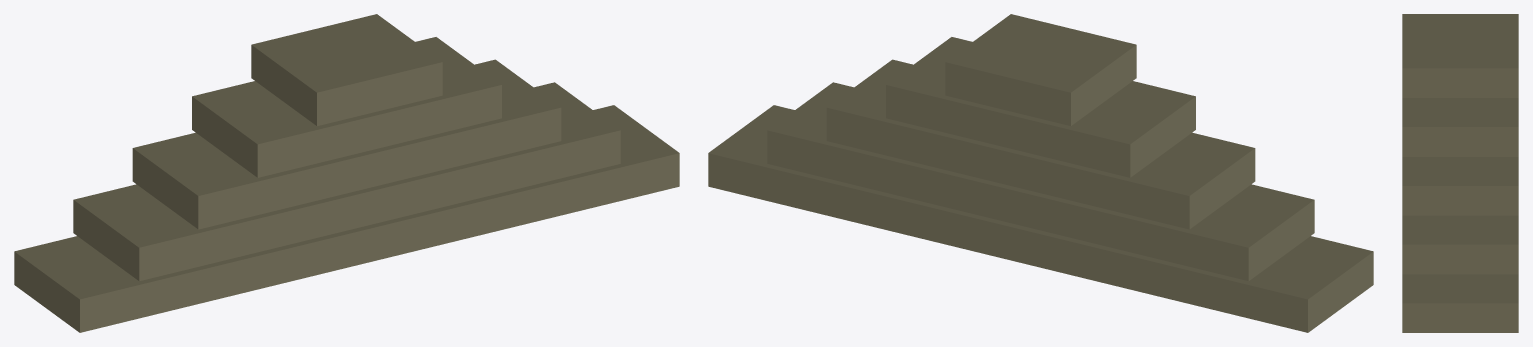
File: SM_PretilTramo_v1_Talud_e0_Sano_LOD1.fbx
The picture shows the model from 3 angles, left to right: view 1: azimuth 30°, elevation 25°; view 2: azimuth 150°, elevation 25°; view 3: azimuth 270°, elevation 25°; orthographic projection. The views are drawn at different scales.
Parts seen in each view (by area): view 1: SM_pretil_azotea_v4_LOD1; view 2: SM_pretil_azotea_v4_LOD1; view 3: SM_pretil_azotea_v4_LOD1.
Boxes of the visible parts, x1,y1,x2,y2 form: SM_pretil_azotea_v4_LOD1: [14, 14, 679, 332]; SM_pretil_azotea_v4_LOD1: [708, 14, 1373, 332]; SM_pretil_azotea_v4_LOD1: [1402, 14, 1518, 332].
Size of the model in its own units: 5.06 by 1.47 by 0.96.
